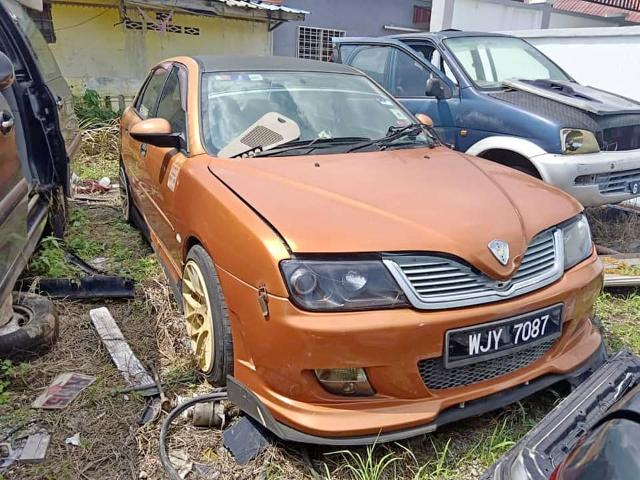License_Plate: (458, 305, 554, 370)
car: (108, 52, 609, 437), (328, 28, 640, 220)
